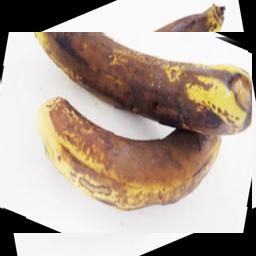Banana Rotten: (0, 32, 252, 233)
